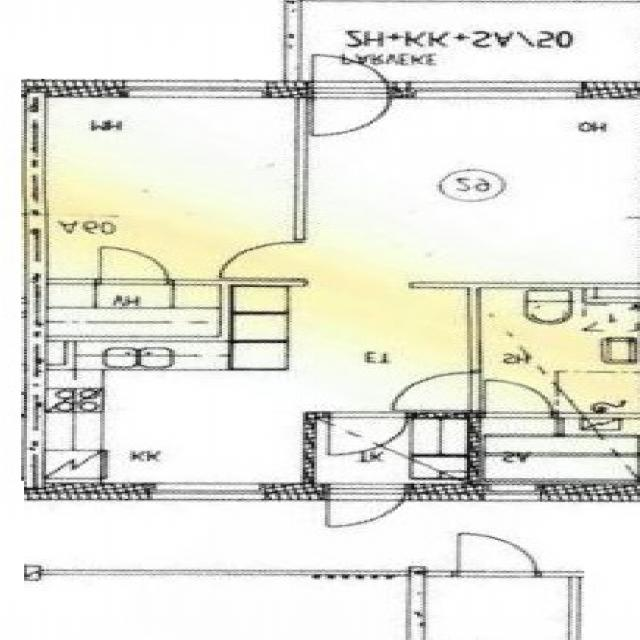door: (328, 484, 406, 538), (313, 44, 389, 98), (313, 82, 389, 135), (458, 534, 536, 578), (330, 413, 408, 456), (392, 372, 480, 410), (227, 243, 308, 278), (101, 247, 169, 285), (487, 381, 554, 418)
